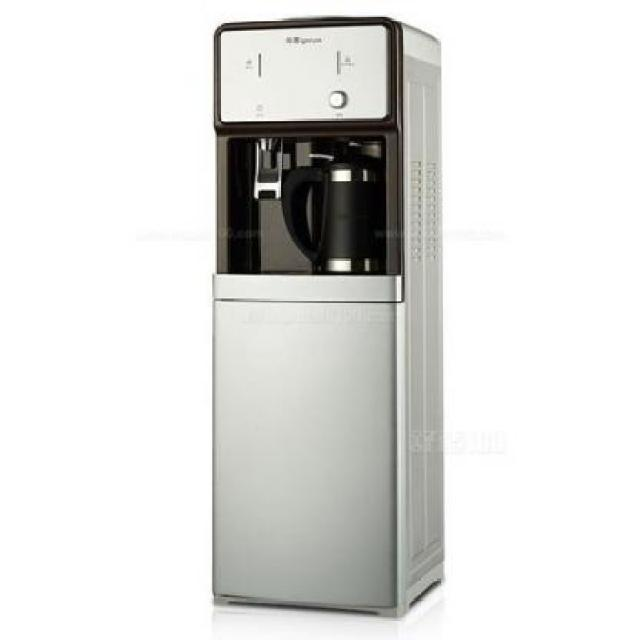cooler: (207, 11, 448, 614)
